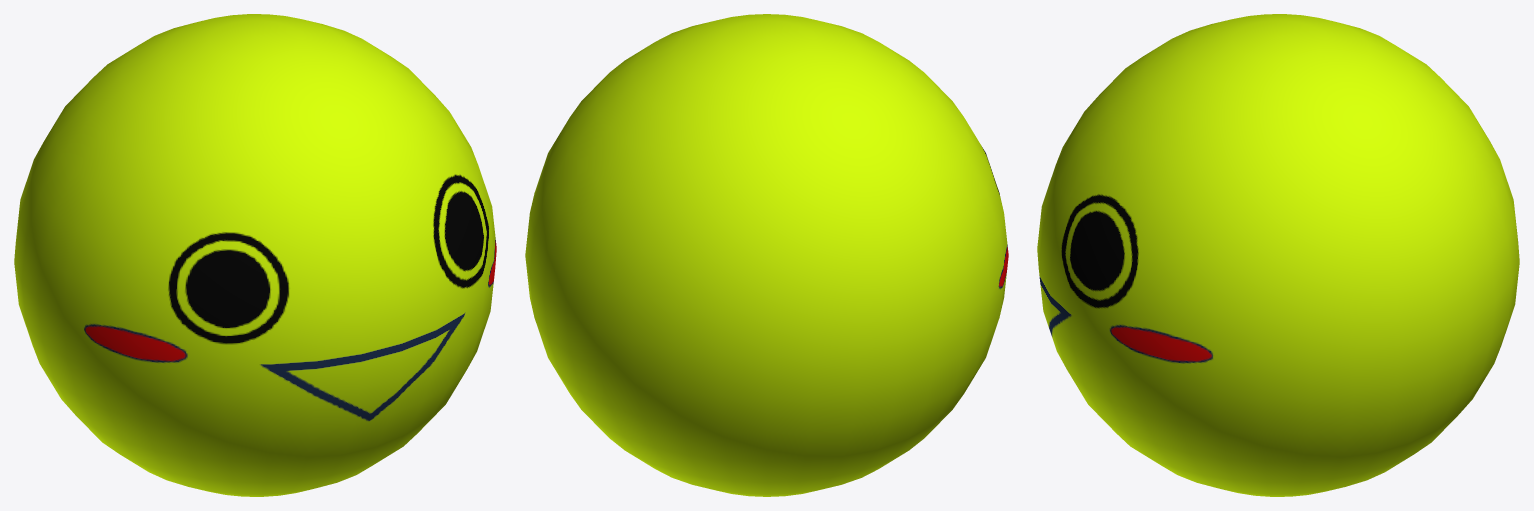
Rendered from enemyMagic.obj.
3 views of the same model, side by side, from view 1: azimuth 30°, elevation 25°; view 2: azimuth 150°, elevation 25°; view 3: azimuth 270°, elevation 25° (orthographic).
Parts seen in each view (by area): view 1: Sphere; view 2: Sphere; view 3: Sphere.
Part boxes in pixels (x1=…): Sphere: x1=14, y1=14, x2=496, y2=496; Sphere: x1=525, y1=14, x2=1008, y2=496; Sphere: x1=1037, y1=14, x2=1519, y2=496.
Size of the model in its own units: 2 by 2 by 2.
Materials: 1 (1 with a texture image).
